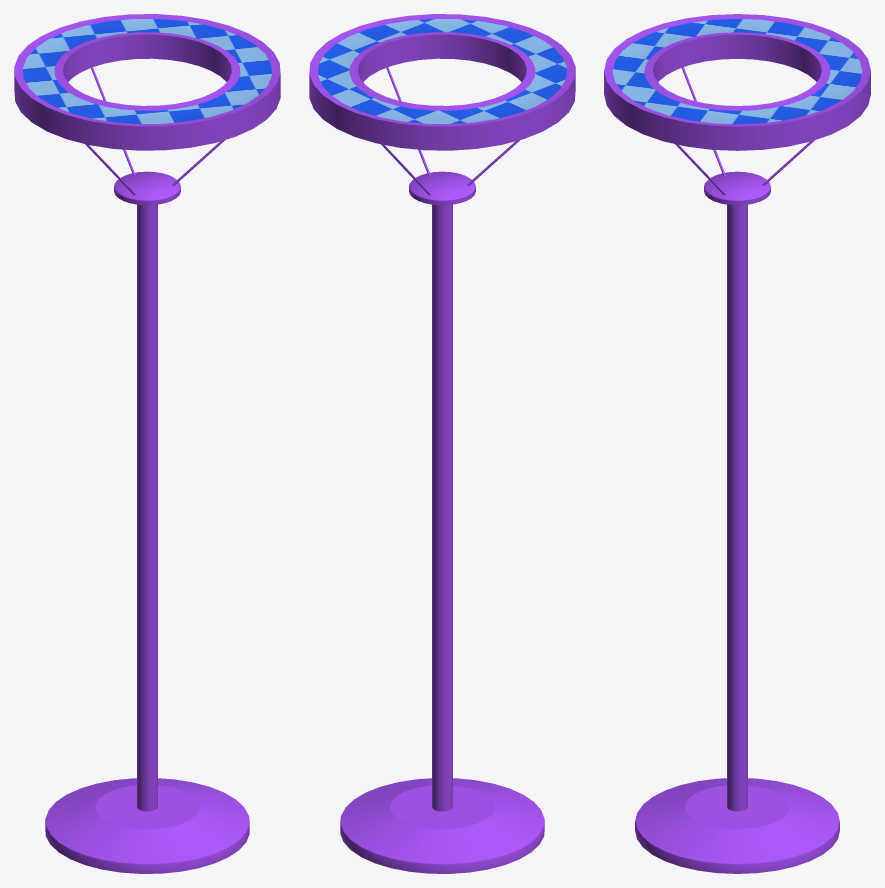
The model's file is LightFloor06_2.FBX.
3 renders of one model, left to right at view 1: azimuth 30°, elevation 25°; view 2: azimuth 150°, elevation 25°; view 3: azimuth 270°, elevation 25°, orthographic.
Visible parts, largest first — view 1: LightFloor06_2; view 2: LightFloor06_2; view 3: LightFloor06_2.
Boxes of the visible parts, x1,y1,x2,y2 form: LightFloor06_2: (14, 14, 280, 873); LightFloor06_2: (309, 14, 575, 873); LightFloor06_2: (604, 14, 870, 873).
Size of the model in its own units: 47.7 by 150 by 47.7.
